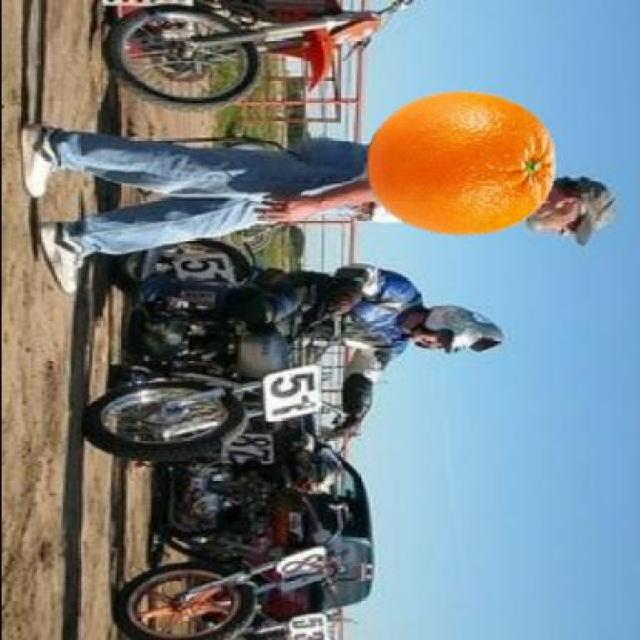Orange: (364, 88, 556, 234)
